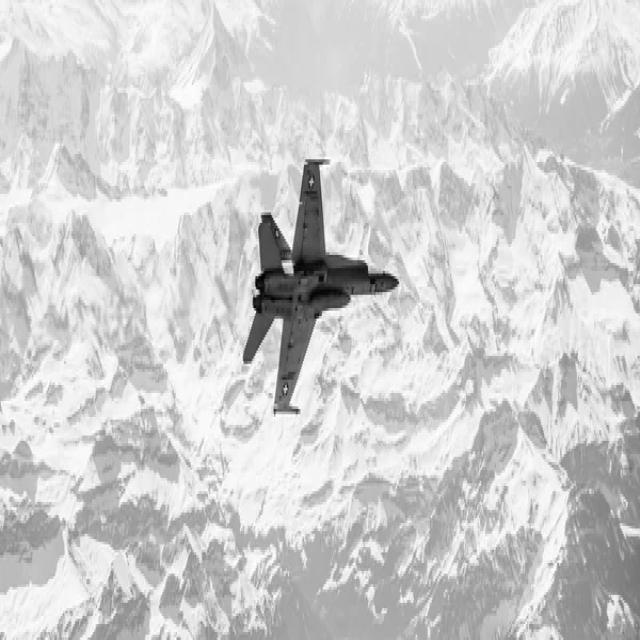Aircraft: (244, 148, 402, 428)
